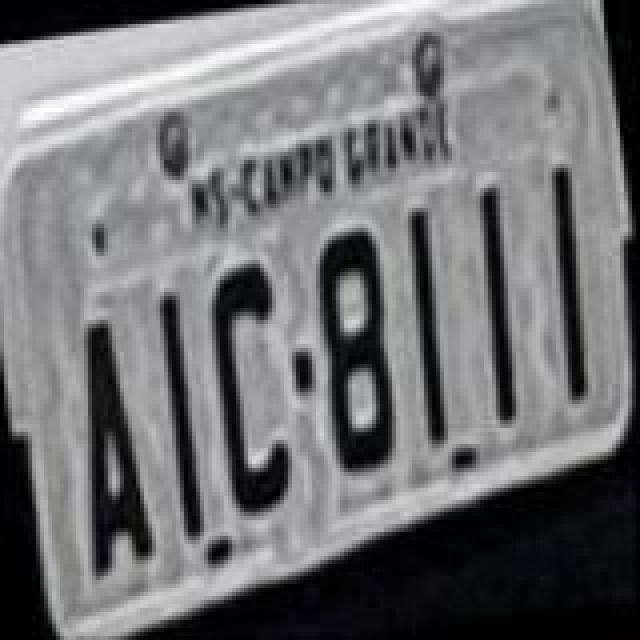1: (458, 176, 530, 432), (388, 196, 456, 448), (530, 154, 598, 398), (146, 282, 210, 538)
8: (304, 218, 408, 478)
A: (54, 314, 158, 582)
C: (196, 250, 300, 518)
